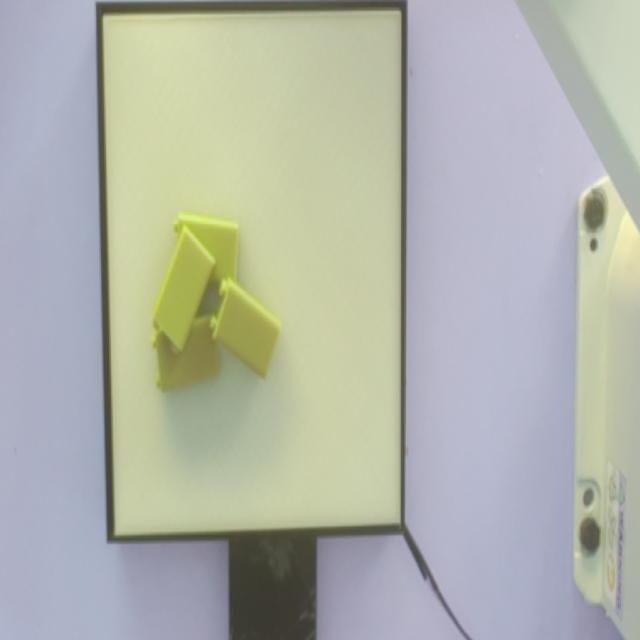bateria: (151, 228, 216, 355), (209, 277, 280, 380)
mesa: (97, 1, 407, 543)
